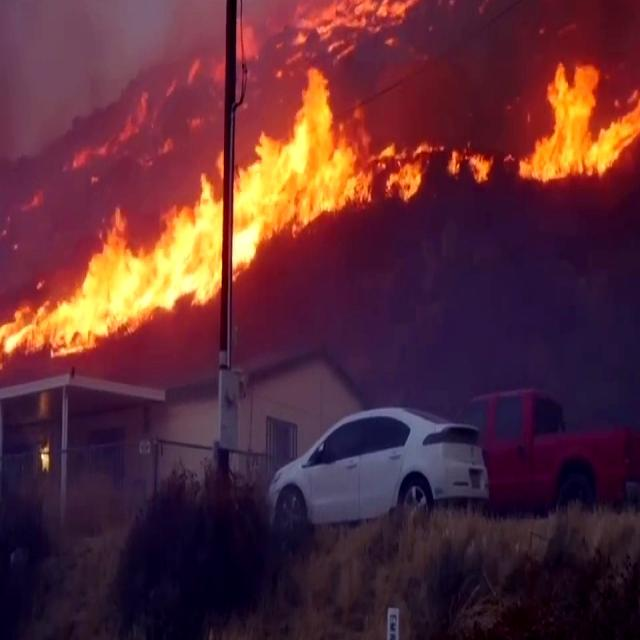fire: (77, 72, 345, 349), (521, 28, 617, 190), (0, 264, 67, 376)
